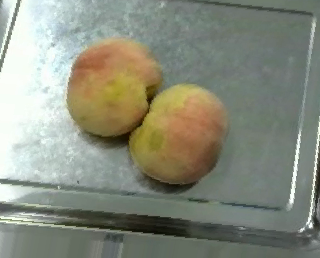Peach: (131, 82, 229, 185), (67, 38, 159, 135)
